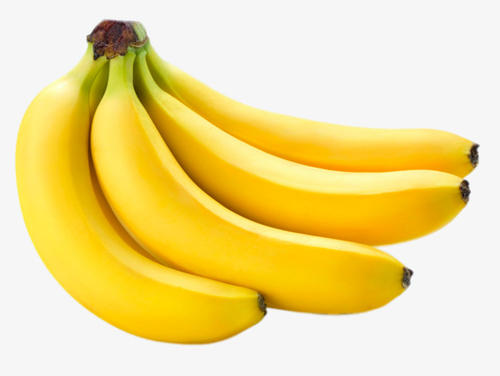fruit_banana: (90, 50, 421, 323), (7, 35, 273, 349), (136, 57, 473, 248)
